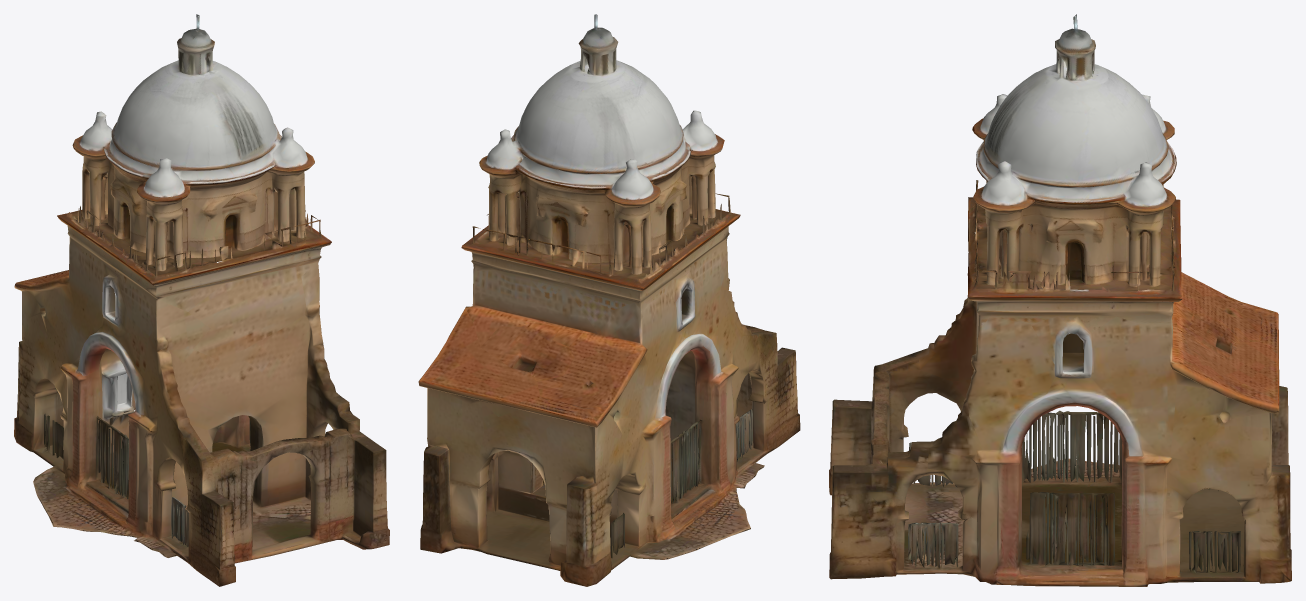
3 renders of one model, left to right at view 1: azimuth 30°, elevation 25°; view 2: azimuth 150°, elevation 25°; view 3: azimuth 270°, elevation 25°, orthographic. The views are drawn at different scales.
Parts seen in each view (by area): view 1: tripo_node_d7e00f09-8294-42a4-aef4-09e5ad24f67a; view 2: tripo_node_d7e00f09-8294-42a4-aef4-09e5ad24f67a; view 3: tripo_node_d7e00f09-8294-42a4-aef4-09e5ad24f67a.
Part boxes in pixels (x1,y1,x2,y2): tripo_node_d7e00f09-8294-42a4-aef4-09e5ad24f67a: [14, 14, 389, 586]; tripo_node_d7e00f09-8294-42a4-aef4-09e5ad24f67a: [418, 14, 800, 586]; tripo_node_d7e00f09-8294-42a4-aef4-09e5ad24f67a: [829, 14, 1291, 586].
Bounding box in the file's own units: 0.5189 × 1 × 0.7973.
1 material, 1 textured.
